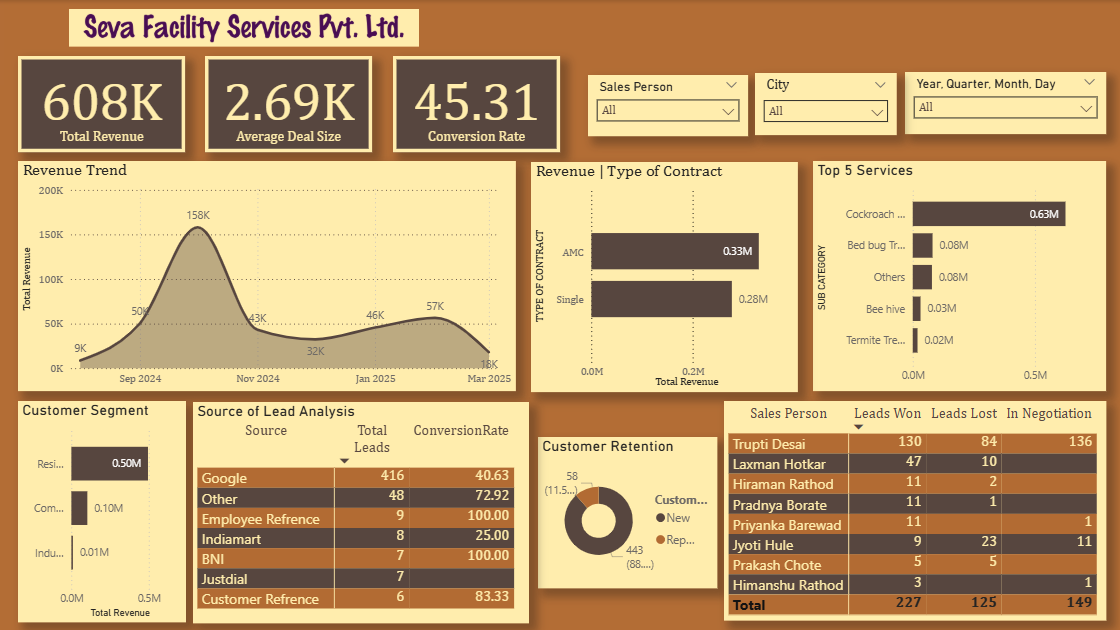

What the dashboard file says about the page in this screenshot:
{"tool":"powerbi","page":{"name":"Executive Level - Strategic ","canvas":[1280,720],"ordinal":0},"visuals":[{"type":"card","fields":{"Values":["New.Total Revenue"]},"box":[21,64.2,191.4,109.9],"z":0},{"type":"card","fields":{"Values":["New.ConversionRate"]},"box":[449.4,64.2,191.4,109.9],"z":1000},{"type":"donutChart","title":"Customer Retention","fields":{"Category":["New.Customer Type"],"Y":["CountNonNull(New.LEAD STATUS)"]},"box":[614.9,499.4,204.6,172.6],"z":2000},{"type":"card","fields":{"Values":["New.Average Deal Size"]},"box":[234.6,64.2,191.4,109.9],"z":3000},{"type":"lineChart","title":"Revenue Trend","fields":{"Y":["New.Total Revenue"],"Category":["New.1ST CALL DATE.Variation.Date Hierarchy.Year","New.1ST CALL DATE.Variation.Date Hierarchy.Quarter","New.1ST CALL DATE.Variation.Date Hierarchy.Month","New.1ST CALL DATE.Variation.Date Hierarchy.Day"]},"box":[20.6,184,569.1,262.9],"z":4000},{"type":"clusteredBarChart","title":"Customer Segment","fields":{"Category":["New.CUSTOMER SEGMENT"],"Y":["New.Total Revenue"]},"box":[20.5,457.8,191.6,253],"z":5000},{"type":"clusteredBarChart","title":"Top 5 Services","fields":{"Y":["Sum(New.BOOKING AMOUNT)"],"Category":["New.SUB CATEGORY"]},"box":[929.2,183.8,335.4,263.5],"z":6000},{"type":"shape","box":[78.9,10.3,400,43.4],"z":7000},{"type":"image","box":[67.4,10.3,421.7,43.4],"z":8000},{"type":"barChart","title":"Revenue   |   Type of Contract","fields":{"Category":["New.TYPE OF CONTRACT"],"Y":["New.Total Revenue"]},"box":[606.9,185.1,305.1,262.9],"z":9000},{"type":"slicer","fields":{"Values":["New.Sales Person"]},"box":[671.6,85.2,182.7,70.4],"z":10000},{"type":"slicer","fields":{"Values":["New.ENQUIRY DATE.Variation.Date Hierarchy.Year","New.ENQUIRY DATE.Variation.Date Hierarchy.Quarter","New.ENQUIRY DATE.Variation.Date Hierarchy.Month","New.ENQUIRY DATE.Variation.Date Hierarchy.Day"]},"box":[1034.3,82.3,229.7,70.9],"z":11000},{"type":"pivotTable","title":"Source of Lead Analysis","fields":{"Rows":["New.SOURCE OF LEAD"],"Values":["New.Total Leads by Salesperson","New.ConversionRate"]},"box":[220.5,459,384.3,253],"z":12000},{"type":"pivotTable","title":"Source of Lead Analysis","fields":{"Rows":["New.Sales Person"],"Values":["New.Leads Won","New.Leads Lost","New.Leads in Negotiation Stage"]},"box":[827.4,458.3,436.6,251.4],"z":13000},{"type":"slicer","fields":{"Values":["New.CITY"]},"box":[862.9,83.4,162.3,70.9],"z":14000}]}

Visuals, with their boxes in screenshot pixels (x1, y1, x2, y2), scaled from the page's 1280x720 canvas onto the 1120x630 screenshot:
card - New.Total Revenue: crop(18, 56, 186, 152)
card - New.ConversionRate: crop(393, 56, 561, 152)
"Customer Retention" donutChart: crop(538, 437, 717, 588)
card - New.Average Deal Size: crop(205, 56, 373, 152)
"Revenue Trend" lineChart: crop(18, 161, 516, 391)
"Customer Segment" clusteredBarChart: crop(18, 401, 186, 622)
"Top 5 Services" clusteredBarChart: crop(813, 161, 1107, 391)
shape: crop(69, 9, 419, 47)
image: crop(59, 9, 428, 47)
"Revenue   |   Type of Contract" barChart: crop(531, 162, 798, 392)
slicer - New.Sales Person: crop(588, 75, 748, 136)
slicer - New.ENQUIRY DATE.Variation.Date Hierarchy.Year x New.ENQUIRY DATE.Variation.Date Hierarchy.Quarter: crop(905, 72, 1106, 134)
"Source of Lead Analysis" pivotTable: crop(193, 402, 529, 623)
"Source of Lead Analysis" pivotTable: crop(724, 401, 1106, 621)
slicer - New.CITY: crop(755, 73, 897, 135)
